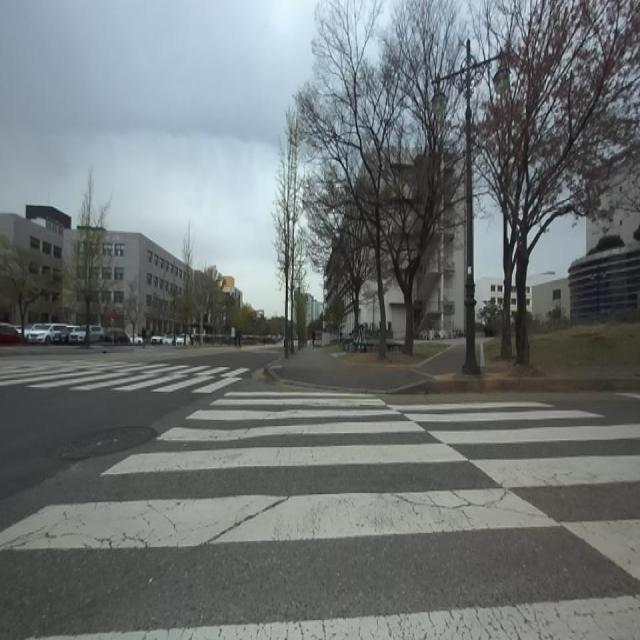sidewalk: (270, 345, 466, 391)
